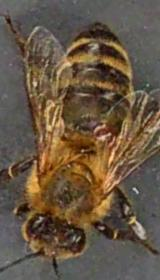varroa_mite: (85, 120, 123, 140)
